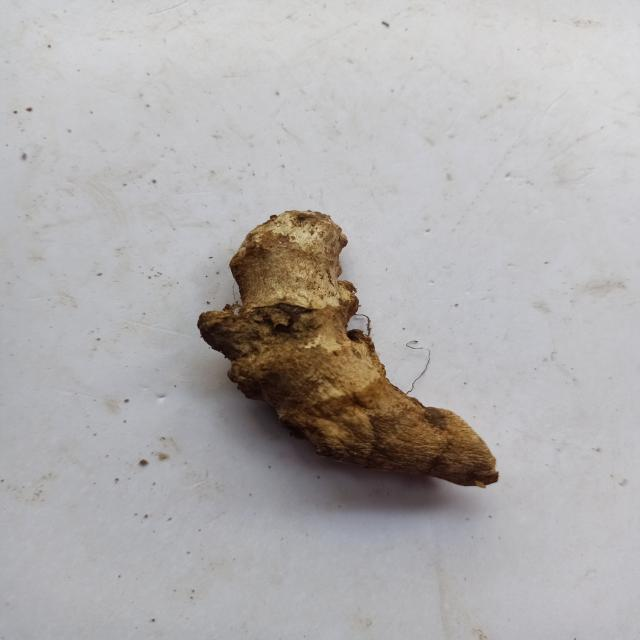Ginger: (198, 211, 499, 487)
